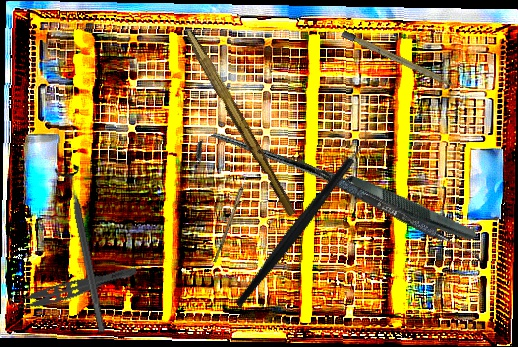Chopper: (191, 122, 413, 309)
Fixation Ring: (53, 163, 115, 335)
Hook Surgical: (190, 46, 477, 337)
Scalpel Handle: (179, 29, 301, 218), (341, 30, 457, 89)
Spatula Surgical: (287, 153, 489, 264)
Surgical Spoon: (213, 161, 253, 264)
Tissue Forceps: (8, 255, 139, 317)
